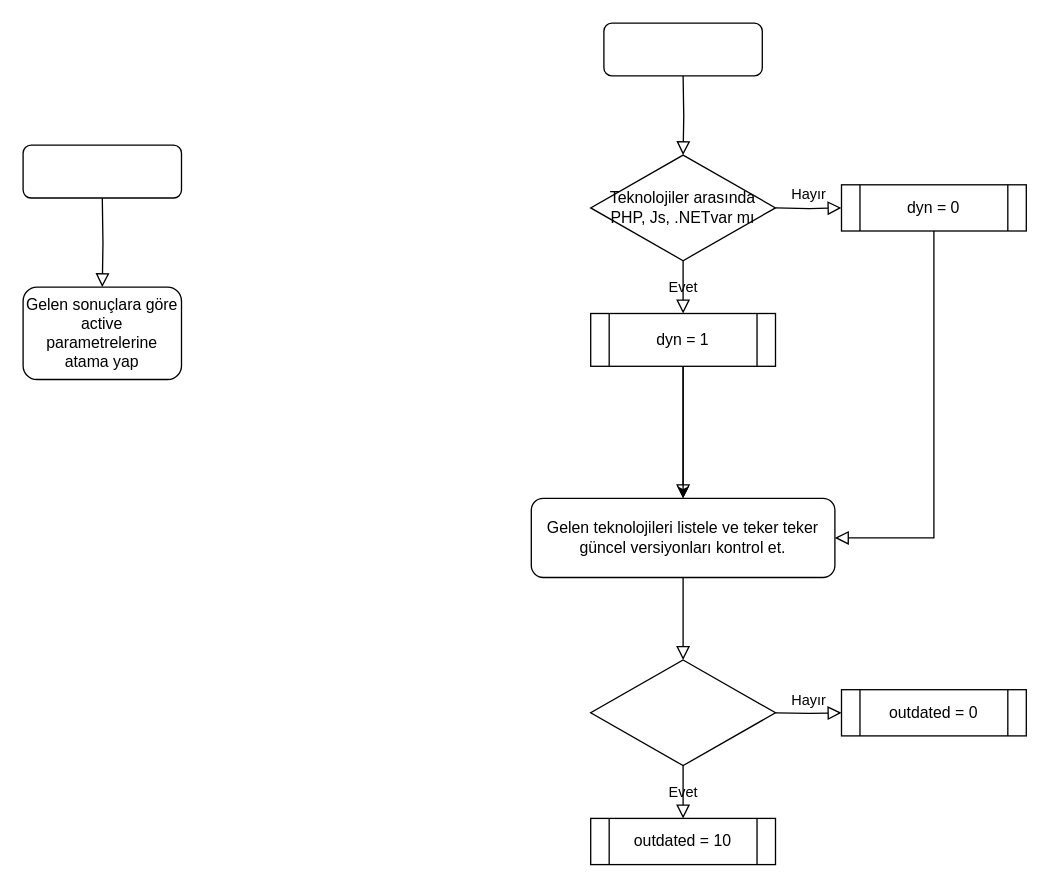
The diagram is 1049 pixels wide and 888 high, and some of its shapes have lost their labels. The shapes that lost their labels are listed below. From the top down, each one's centre as x and y in pixels, then its label:
point 682,49: technology lookup çalıştır
point 102,171: active-content.py çalıştır
point 682,712: Versiyonu tespit edilenlerden eski versiyon var mı?
